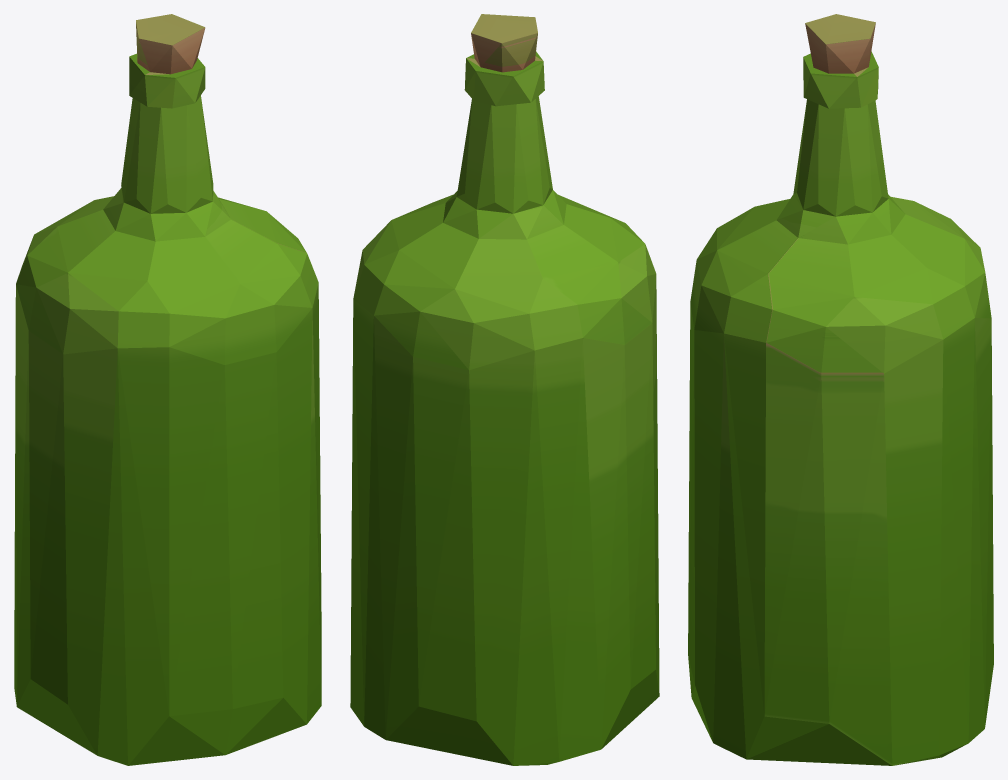
File: SM_Bottle_02.glb
The picture shows the model from 3 angles, left to right: view 1: azimuth 30°, elevation 25°; view 2: azimuth 150°, elevation 25°; view 3: azimuth 270°, elevation 25°; orthographic projection.
Parts seen in each view (by area): view 1: SM_Bottle_02; view 2: SM_Bottle_02; view 3: SM_Bottle_02.
Part boxes in pixels (x1=…): SM_Bottle_02: x1=14, y1=14, x2=321, y2=765; SM_Bottle_02: x1=350, y1=14, x2=659, y2=765; SM_Bottle_02: x1=688, y1=14, x2=993, y2=765.
Size of the model in its own units: 0.1292 by 0.3197 by 0.1292.
1 material, 1 textured.
